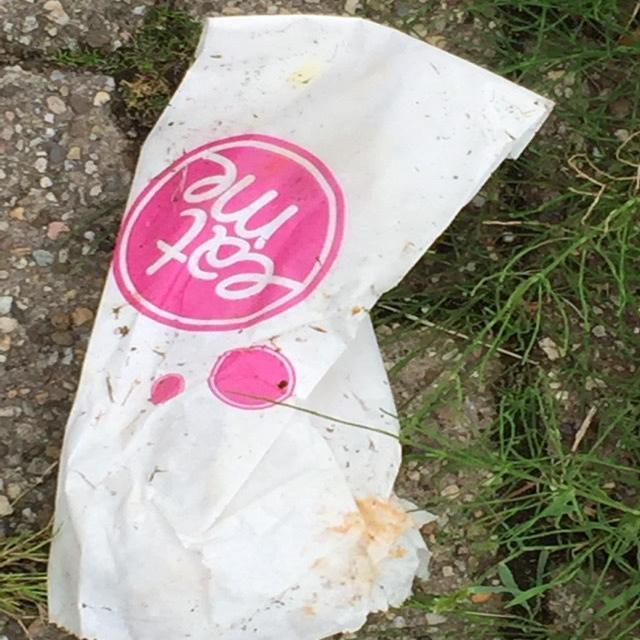Paper: (41, 9, 559, 638)
